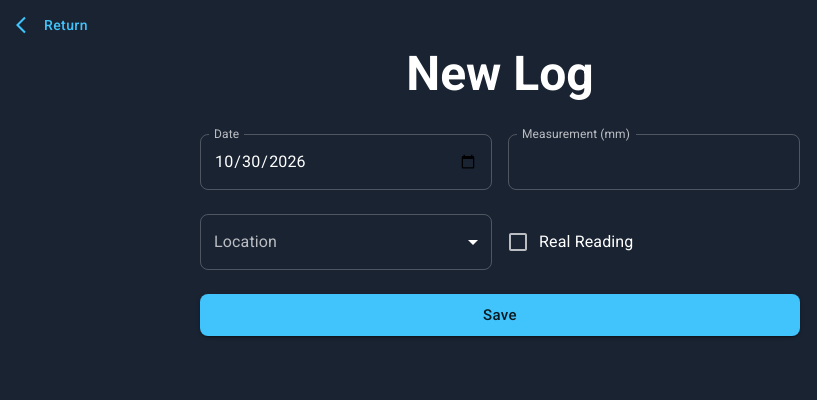
Test case: NewLog › Validation › shows validation error for empty measurement
The image size is (817, 400).
# Submit form without entering measurement
Step 1. Click the button "Save" → (500, 315), box [200,294,800,336]
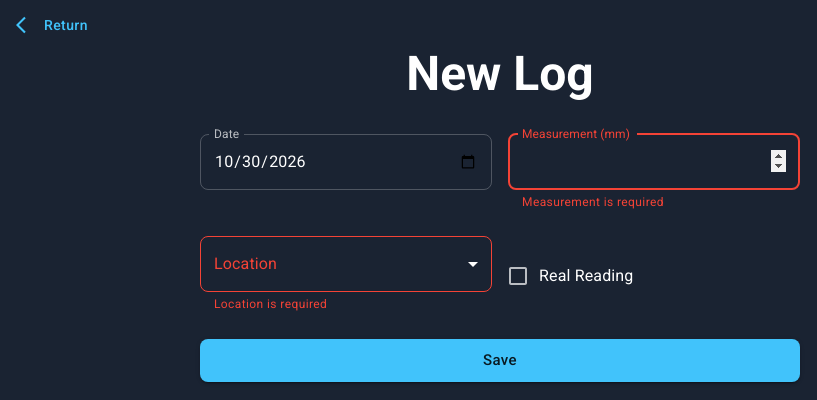
Expected: the text "Measurement is required" is shown, [522,194,664,208]
